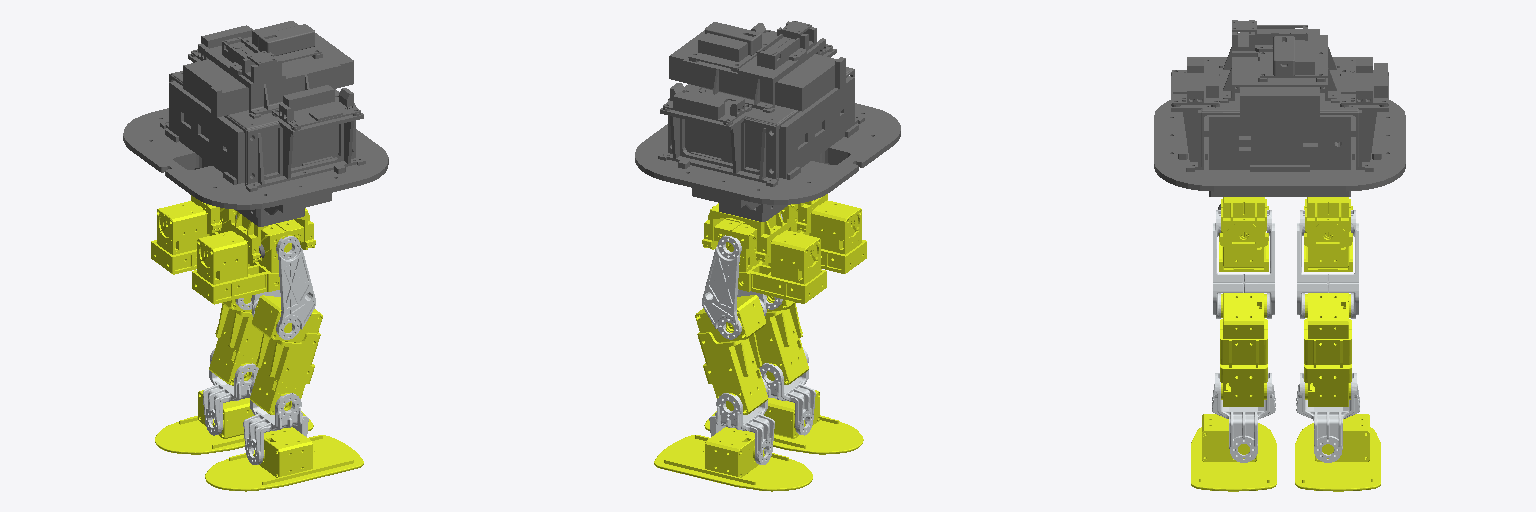
URDF robot description (exhx5_w_b_16):
<?xml version="1.0" encoding="utf-8"?>
<!-- This URDF was automatically created by SolidWorks to URDF Exporter! Originally created by [author] ([email redacted]) 
     Commit Version: 1.5.1-0-g916b5db  Build Version: 1.5.7152.31018
     For more information, please see http://wiki.ros.org/sw_urdf_exporter -->
<robot
  name="exhx5_w_b_16">
  <link
    name="body_link">
    <inertial>
      <origin
        xyz="0.00043545 0.00025536 0.10071"
        rpy="0 0 0" />
      <mass
        value="1.8238" />
      <inertia
        ixx="0.0025905"
        ixy="-5.6852E-06"
        ixz="-1.3106E-05"
        iyy="0.0024595"
        iyz="-1.261E-06"
        izz="0.0046407" />
    </inertial>
    <visual>
      <origin
        xyz="0 0 0"
        rpy="0 0 0" />
      <geometry>
        <mesh
          filename="../meshes/body_link.STL" />
      </geometry>
      <material
        name="">
        <color
          rgba="0.49804 0.49804 0.49804 1" />
      </material>
    </visual>
    <collision>
      <origin
        xyz="0 0 0"
        rpy="0 0 0" />
      <geometry>
        <mesh
          filename="../meshes/body_link.STL" />
      </geometry>
    </collision>
  </link>

  <link
    name="imu_link">
    <inertial>
      <origin
        xyz="-0.008387 1.336E-17 -0.0069463"
        rpy="0 0 0" />
      <mass
        value="0.0062931" />
      <inertia
        ixx="3.2242E-07"
        ixy="3.3527E-22"
        ixz="-6.9193E-08"
        iyy="9.2229E-07"
        iyz="-8.0392E-22"
        izz="1.1018E-06" />
    </inertial>
    <visual>
      <origin
        xyz="0 0 0"
        rpy="0 0 0" />
      <geometry>
        <mesh
          filename="../meshes/imu_link.STL" />
      </geometry>
      <material
        name="">
        <color
          rgba="0.79216 0.81961 0.93333 1" />
      </material>
    </visual>
    <collision>
      <origin
        xyz="0 0 0"
        rpy="0 0 0" />
      <geometry>
        <mesh
          filename="../meshes/imu_link.STL" />
      </geometry>
    </collision>
  </link>
  <joint
    name="imu"
    type="fixed">
    <origin
      xyz="0 0 0.0492"
      rpy="0 0 0" />
    <parent
      link="body_link" />
    <child
      link="imu_link" />
    <axis
      xyz="0 0 0" />
    <limit
      lower="-3.14"
      upper="3.14"
      effort="4"
      velocity="4" />
  </joint>
  <link
    name="l_hip_g_link">
    <inertial>
      <origin
        xyz="-0.0043797 -8.6604E-08 0.011813"
        rpy="0 0 0" />
      <mass
        value="0.061008" />
      <inertia
        ixx="1.167E-05"
        ixy="7.1767E-11"
        ixz="9.1442E-09"
        iyy="2.2342E-05"
        iyz="2.5177E-11"
        izz="2.4892E-05" />
    </inertial>
    <visual>
      <origin
        xyz="0 0 0"
        rpy="0 0 0" />
      <geometry>
        <mesh
          filename="../meshes/l_hip_g_link.STL" />
      </geometry>
      <material
        name="">
        <color
          rgba="0.9451 1 0.18431 1" />
      </material>
    </visual>
    <collision>
      <origin
        xyz="0 0 0"
        rpy="0 0 0" />
      <geometry>
        <mesh
          filename="../meshes/l_hip_g_link.STL" />
      </geometry>
    </collision>
  </link>
  <joint
    name="l_hip_g"
    type="fixed">
    <origin
      xyz="-.002 .040 0"
      rpy="0 0 0" />
    <parent
      link="body_link" />
    <child
      link="l_hip_g_link" />
    <axis
      xyz="0 0 0" />
  </joint>
  <link
    name="l_hip_roll_link">
    <inertial>
      <origin
        xyz="0.013831 0.00033457 0.025453"
        rpy="0 0 0" />
      <mass
        value="0.2969" />
      <inertia
        ixx="7.8136E-05"
        ixy="7.265E-07"
        ixz="-6.9809E-08"
        iyy="9.2183E-05"
        iyz="-5.6881E-11"
        izz="7.1034E-05" />
    </inertial>
    <visual>
      <origin
        xyz="0 0 0"
        rpy="0 0 0" />
      <geometry>
        <mesh
          filename="../meshes/l_hip_roll_link.STL" />
      </geometry>
      <material
        name="">
        <color
          rgba="0.9451 1 0.18431 1" />
      </material>
    </visual>
    <collision>
      <origin
        xyz="0 0 0"
        rpy="0 0 0" />
      <geometry>
        <mesh
          filename="../meshes/l_hip_roll_link.STL" />
      </geometry>
    </collision>
  </link>
  <joint
    name="l_hip_roll"
    type="revolute">
    <origin
      xyz="0 0 0"
      rpy="3.1416 1.5708 0" />
    <parent
      link="l_hip_g_link" />
    <child
      link="l_hip_roll_link" />
    <axis
      xyz="0 0 1" />
    <limit
      lower="-3.14"
      upper="3.14"
      effort="4"
      velocity="4" />
  </joint>
  <link
    name="l_hip_pitch_link">
    <inertial>
      <origin
        xyz="0.041225 -0.007321 -5.0713E-08"
        rpy="0 0 0" />
      <mass
        value="0.051592" />
      <inertia
        ixx="2.7959E-05"
        ixy="2.0752E-06"
        ixz="-8.0934E-11"
        iyy="4.8156E-05"
        iyz="3.6317E-11"
        izz="2.9604E-05" />
    </inertial>
    <visual>
      <origin
        xyz="0 0 0"
        rpy="0 0 0" />
      <geometry>
        <mesh
          filename="../meshes/l_hip_pitch_link.STL" />
      </geometry>
      <material
        name="">
        <color
          rgba="0.89804 0.91765 0.92941 1" />
      </material>
    </visual>
    <collision>
      <origin
        xyz="0 0 0"
        rpy="0 0 0" />
      <geometry>
        <mesh
          filename="../meshes/l_hip_pitch_link.STL" />
      </geometry>
    </collision>
  </link>
  <joint
    name="l_hip_pitch"
    type="revolute">
    <origin
      xyz="0 0 0"
      rpy="1.5708 0 0" />
    <parent
      link="l_hip_roll_link" />
    <child
      link="l_hip_pitch_link" />
    <axis
      xyz="0 0 1" />
    <limit
      lower="-3.14"
      upper="3.14"
      effort="4"
      velocity="4" />
  </joint>
  <link
    name="l_knee_link">
    <inertial>
      <origin
        xyz="0.033756 -0.0084189 -6.6115E-09"
        rpy="0 0 0" />
      <mass
        value="0.28878" />
      <inertia
        ixx="6.6724E-05"
        ixy="7.5004E-07"
        ixz="-8.4578E-07"
        iyy="6.5699E-05"
        iyz="4.1085E-07"
        izz="7.0381E-05" />
    </inertial>
    <visual>
      <origin
        xyz="0 0 0"
        rpy="0 0 0" />
      <geometry>
        <mesh
          filename="../meshes/l_knee_link.STL" />
      </geometry>
      <material
        name="">
        <color
          rgba="0.9451 1 0.18431 1" />
      </material>
    </visual>
    <collision>
      <origin
        xyz="0 0 0"
        rpy="0 0 0" />
      <geometry>
        <mesh
          filename="../meshes/l_knee_link.STL" />
      </geometry>
    </collision>
  </link>
  <joint
    name="l_knee"
    type="revolute">
    <origin
      xyz="0.075954 0 0"
      rpy="0 0 0" />
    <parent
      link="l_hip_pitch_link" />
    <child
      link="l_knee_link" />
    <axis
      xyz="0 0 1" />
    <limit
      lower="-3.14"
      upper="3.14"
      effort="4"
      velocity="4" />
  </joint>
  <link
    name="l_ank_pitch_link">
    <inertial>
      <origin
        xyz="0.022786 -7.3909E-09 -7.1981E-06"
        rpy="0 0 0" />
      <mass
        value="0.044772" />
      <inertia
        ixx="1.777E-05"
        ixy="8.555E-14"
        ixz="-3.3713E-09"
        iyy="1.7119E-05"
        iyz="1.7593E-11"
        izz="1.8661E-05" />
    </inertial>
    <visual>
      <origin
        xyz="0 0 0"
        rpy="0 0 0" />
      <geometry>
        <mesh
          filename="../meshes/l_ank_pitch_link.STL" />
      </geometry>
      <material
        name="">
        <color
          rgba="0.89804 0.91765 0.92941 1" />
      </material>
    </visual>
    <collision>
      <origin
        xyz="0 0 0"
        rpy="0 0 0" />
      <geometry>
        <mesh
          filename="../meshes/l_ank_pitch_link.STL" />
      </geometry>
    </collision>
  </link>
  <joint
    name="l_ank_pitch"
    type="revolute">
    <origin
      xyz="0.074602 0 0"
      rpy="3.1416 0 0" />
    <parent
      link="l_knee_link" />
    <child
      link="l_ank_pitch_link" />
    <axis
      xyz="0 0 1" />
    <limit
      lower="-3.14"
      upper="3.14"
      effort="4"
      velocity="4" />
  </joint>
  <link
    name="l_ank_roll_link">
    <inertial>
      <origin
        xyz="0.0047069 0.010728 0.0015299"
        rpy="0 0 0" />
      <mass
        value="0.16774" />
      <inertia
        ixx="0.00012039"
        ixy="-3.7428E-09"
        ixz="4.4069E-08"
        iyy="8.7735E-05"
        iyz="7.0469E-07"
        izz="4.7866E-05" />
    </inertial>
    <visual>
      <origin
        xyz="0 0 0"
        rpy="0 0 0" />
      <geometry>
        <mesh
          filename="../meshes/l_ank_roll_link.STL" />
      </geometry>
      <material
        name="">
        <color
          rgba="0.9451 1 0.18431 1" />
      </material>
    </visual>
    <collision>
      <origin
        xyz="0 0 0"
        rpy="0 0 0" />
      <geometry>
        <mesh
          filename="../meshes/l_ank_roll_link.STL" />
      </geometry>
    </collision>
  </link>
  <joint
    name="l_ank_roll"
    type="revolute">
    <origin
      xyz="0.0465 0 0"
      rpy="-1.5708 0 0" />
    <parent
      link="l_ank_pitch_link" />
    <child
      link="l_ank_roll_link" />
    <axis
      xyz="0 0 1" />
    <limit
      lower="-3.14"
      upper="3.14"
      effort="4"
      velocity="4" />
  </joint>
  <link
    name="r_hip_g_link">
    <inertial>
      <origin
        xyz="-0.0043797 -8.6604E-08 0.011813"
        rpy="0 0 0" />
      <mass
        value="0.061008" />
      <inertia
        ixx="1.167E-05"
        ixy="7.1767E-11"
        ixz="9.1442E-09"
        iyy="2.2342E-05"
        iyz="2.5177E-11"
        izz="2.4892E-05" />
    </inertial>
    <visual>
      <origin
        xyz="0 0 0"
        rpy="0 0 0" />
      <geometry>
        <mesh
          filename="../meshes/r_hip_g_link.STL" />
      </geometry>
      <material
        name="">
        <color
          rgba="0.9451 1 0.18431 1" />
      </material>
    </visual>
    <collision>
      <origin
        xyz="0 0 0"
        rpy="0 0 0" />
      <geometry>
        <mesh
          filename="../meshes/r_hip_g_link.STL" />
      </geometry>
    </collision>
  </link>
  <joint
    name="r_hip_g"
    type="fixed">
    <origin
      xyz="-.002 -.030 0"
      rpy="0 0 0" />
    <parent
      link="body_link" />
    <child
      link="r_hip_g_link" />
    <axis
      xyz="0 0 0" />
  </joint>
  <link
    name="r_hip_roll_link">
    <inertial>
      <origin
        xyz="0.013831 0.00033457 0.025453"
        rpy="0 0 0" />
      <mass
        value="0.2969" />
      <inertia
        ixx="7.8136E-05"
        ixy="7.265E-07"
        ixz="-6.9809E-08"
        iyy="9.2183E-05"
        iyz="-5.6881E-11"
        izz="7.1034E-05" />
    </inertial>
    <visual>
      <origin
        xyz="0 0 0"
        rpy="0 0 0" />
      <geometry>
        <mesh
          filename="../meshes/r_hip_roll_link.STL" />
      </geometry>
      <material
        name="">
        <color
          rgba="0.9451 1 0.18431 1" />
      </material>
    </visual>
    <collision>
      <origin
        xyz="0 0 0"
        rpy="0 0 0" />
      <geometry>
        <mesh
          filename="../meshes/r_hip_roll_link.STL" />
      </geometry>
    </collision>
  </link>
  <joint
    name="r_hip_roll"
    type="revolute">
    <origin
      xyz="0 0 0"
      rpy="3.1416 1.5708 0" />
    <parent
      link="r_hip_g_link" />
    <child
      link="r_hip_roll_link" />
    <axis
      xyz="0 0 1" />
    <limit
      lower="-3.14"
      upper="3.14"
      effort="4"
      velocity="4" />
  </joint>
  <link
    name="r_hip_pitch_link">
    <inertial>
      <origin
        xyz="0.041225 0.007321 5.0713E-08"
        rpy="0 0 0" />
      <mass
        value="0.051592" />
      <inertia
        ixx="2.7959E-05"
        ixy="-2.0752E-06"
        ixz="8.0934E-11"
        iyy="4.8156E-05"
        iyz="3.6317E-11"
        izz="2.9604E-05" />
    </inertial>
    <visual>
      <origin
        xyz="0 0 0"
        rpy="0 0 0" />
      <geometry>
        <mesh
          filename="../meshes/r_hip_pitch_link.STL" />
      </geometry>
      <material
        name="">
        <color
          rgba="0.89804 0.91765 0.92941 1" />
      </material>
    </visual>
    <collision>
      <origin
        xyz="0 0 0"
        rpy="0 0 0" />
      <geometry>
        <mesh
          filename="../meshes/r_hip_pitch_link.STL" />
      </geometry>
    </collision>
  </link>
  <joint
    name="r_hip_pitch"
    type="revolute">
    <origin
      xyz="0 0 0"
      rpy="-1.5708 0 0" />
    <parent
      link="r_hip_roll_link" />
    <child
      link="r_hip_pitch_link" />
    <axis
      xyz="0 0 1" />
    <limit
      lower="-3.14"
      upper="3.14"
      effort="4"
      velocity="4" />
  </joint>
  <link
    name="r_knee_link">
    <inertial>
      <origin
        xyz="0.033757 0.0084176 6.6115E-09"
        rpy="0 0 0" />
      <mass
        value="0.28878" />
      <inertia
        ixx="6.6724E-05"
        ixy="-7.5008E-07"
        ixz="8.458E-07"
        iyy="6.5699E-05"
        iyz="4.1081E-07"
        izz="7.0381E-05" />
    </inertial>
    <visual>
      <origin
        xyz="0 0 0"
        rpy="0 0 0" />
      <geometry>
        <mesh
          filename="../meshes/r_knee_link.STL" />
      </geometry>
      <material
        name="">
        <color
          rgba="0.9451 1 0.18431 1" />
      </material>
    </visual>
    <collision>
      <origin
        xyz="0 0 0"
        rpy="0 0 0" />
      <geometry>
        <mesh
          filename="../meshes/r_knee_link.STL" />
      </geometry>
    </collision>
  </link>
  <joint
    name="r_knee"
    type="revolute">
    <origin
      xyz="0.075954 0 0"
      rpy="0 0 0" />
    <parent
      link="r_hip_pitch_link" />
    <child
      link="r_knee_link" />
    <axis
      xyz="0 0 1" />
    <limit
      lower="-3.14"
      upper="3.14"
      effort="4"
      velocity="4" />
  </joint>
  <link
    name="r_ank_pitch_link">
    <inertial>
      <origin
        xyz="0.025786 -7.3887E-09 -7.1981E-06"
        rpy="0 0 0" />
      <mass
        value="0.044772" />
      <inertia
        ixx="1.777E-05"
        ixy="8.5434E-14"
        ixz="-3.3713E-09"
        iyy="1.7119E-05"
        iyz="1.7592E-11"
        izz="1.8661E-05" />
    </inertial>
    <visual>
      <origin
        xyz="0 0 0"
        rpy="0 0 0" />
      <geometry>
        <mesh
          filename="../meshes/r_ank_pitch_link.STL" />
      </geometry>
      <material
        name="">
        <color
          rgba="0.89804 0.91765 0.92941 1" />
      </material>
    </visual>
    <collision>
      <origin
        xyz="0 0 0"
        rpy="0 0 0" />
      <geometry>
        <mesh
          filename="../meshes/r_ank_pitch_link.STL" />
      </geometry>
    </collision>
  </link>
  <joint
    name="r_ank_pitch"
    type="revolute">
    <origin
      xyz="0.071602 0 0"
      rpy="3.1416 0 0" />
    <parent
      link="r_knee_link" />
    <child
      link="r_ank_pitch_link" />
    <axis
      xyz="0 0 1" />
    <limit
      lower="-3.14"
      upper="3.14"
      effort="4"
      velocity="4" />
  </joint>
  <link
    name="r_ank_roll_link">
    <inertial>
      <origin
        xyz="0.0077069 -0.010728 0.0015299"
        rpy="0 0 0" />
      <mass
        value="0.16774" />
      <inertia
        ixx="0.00012039"
        ixy="3.743E-09"
        ixz="4.407E-08"
        iyy="8.7735E-05"
        iyz="-7.0467E-07"
        izz="4.7866E-05" />
    </inertial>
    <visual>
      <origin
        xyz="0 0 0"
        rpy="0 0 0" />
      <geometry>
        <mesh
          filename="../meshes/r_ank_roll_link.STL" />
      </geometry>
      <material
        name="">
        <color
          rgba="0.9451 1 0.18431 1" />
      </material>
    </visual>
    <collision>
      <origin
        xyz="0 0 0"
        rpy="0 0 0" />
      <geometry>
        <mesh
          filename="../meshes/r_ank_roll_link.STL" />
      </geometry>
    </collision>
  </link>
  <joint
    name="r_ank_roll"
    type="revolute">
    <origin
      xyz="0.0465 0 0"
      rpy="1.5708 0 0" />
    <parent
      link="r_ank_pitch_link" />
    <child
      link="r_ank_roll_link" />
    <axis
      xyz="0 0 1" />
    <limit
      lower="-3.14"
      upper="3.14"
      effort="4"
      velocity="4" />
  </joint>
  <transmission name="r_hip_roll_tran">
    <type>transmission_interface/SimpleTransmission</type>
    <joint name="r_hip_roll">
      <hardwareInterface>hardware_interface/EffortJointInterface</hardwareInterface>
    </joint>
    <actuator name="r_hip_roll_motor">
      <hardwareInterface>hardware_interface/EffortJointInterface</hardwareInterface>
      <mechanicalReduction>1</mechanicalReduction>
    </actuator>
  </transmission>
  <transmission name="r_hip_pitch_tran">
    <type>transmission_interface/SimpleTransmission</type>
    <joint name="r_hip_pitch">
      <hardwareInterface>hardware_interface/EffortJointInterface</hardwareInterface>
    </joint>
    <actuator name="r_hip_pitch_motor">
      <hardwareInterface>hardware_interface/EffortJointInterface</hardwareInterface>
      <mechanicalReduction>1</mechanicalReduction>
    </actuator>
  </transmission>
  <transmission name="r_knee_tran">
    <type>transmission_interface/SimpleTransmission</type>
    <joint name="r_knee">
      <hardwareInterface>hardware_interface/EffortJointInterface</hardwareInterface>
    </joint>
    <actuator name="r_knee_motor">
      <hardwareInterface>hardware_interface/EffortJointInterface</hardwareInterface>
      <mechanicalReduction>1</mechanicalReduction>
    </actuator>
  </transmission>
  <transmission name="r_ank_pitch_tran">
    <type>transmission_interface/SimpleTransmission</type>
    <joint name="r_ank_pitch">
      <hardwareInterface>hardware_interface/EffortJointInterface</hardwareInterface>
    </joint>
    <actuator name="r_ank_pitch_motor">
      <hardwareInterface>hardware_interface/EffortJointInterface</hardwareInterface>
      <mechanicalReduction>1</mechanicalReduction>
    </actuator>
  </transmission>
  <transmission name="r_ank_roll_tran">
    <type>transmission_interface/SimpleTransmission</type>
    <joint name="r_ank_roll">
      <hardwareInterface>hardware_interface/EffortJointInterface</hardwareInterface>
    </joint>
    <actuator name="r_ank_roll_motor">
      <hardwareInterface>hardware_interface/EffortJointInterface</hardwareInterface>
      <mechanicalReduction>1</mechanicalReduction>
    </actuator>
  </transmission>
  <transmission name="l_hip_roll_tran">
    <type>transmission_interface/SimpleTransmission</type>
    <joint name="l_hip_roll">
      <hardwareInterface>hardware_interface/EffortJointInterface</hardwareInterface>
    </joint>
    <actuator name="l_hip_roll_motor">
      <hardwareInterface>hardware_interface/EffortJointInterface</hardwareInterface>
      <mechanicalReduction>1</mechanicalReduction>
    </actuator>
  </transmission>
  <transmission name="l_hip_pitch_tran">
    <type>transmission_interface/SimpleTransmission</type>
    <joint name="l_hip_pitch">
      <hardwareInterface>hardware_interface/EffortJointInterface</hardwareInterface>
    </joint>
    <actuator name="l_hip_pitch_motor">
      <hardwareInterface>hardware_interface/EffortJointInterface</hardwareInterface>
      <mechanicalReduction>1</mechanicalReduction>
    </actuator>
  </transmission>
  <transmission name="l_knee_tran">
    <type>transmission_interface/SimpleTransmission</type>
    <joint name="l_knee">
      <hardwareInterface>hardware_interface/EffortJointInterface</hardwareInterface>
    </joint>
    <actuator name="l_knee_motor">
      <hardwareInterface>hardware_interface/EffortJointInterface</hardwareInterface>
      <mechanicalReduction>1</mechanicalReduction>
    </actuator>
  </transmission>
  <transmission name="l_ank_pitch_tran">
    <type>transmission_interface/SimpleTransmission</type>
    <joint name="l_ank_pitch">
      <hardwareInterface>hardware_interface/EffortJointInterface</hardwareInterface>
    </joint>
    <actuator name="l_ank_pitch_motor">
      <hardwareInterface>hardware_interface/EffortJointInterface</hardwareInterface>
      <mechanicalReduction>1</mechanicalReduction>
    </actuator>
  </transmission>
  <transmission name="l_ank_roll_tran">
    <type>transmission_interface/SimpleTransmission</type>
    <joint name="l_ank_roll">
      <hardwareInterface>hardware_interface/EffortJointInterface</hardwareInterface>
    </joint>
    <actuator name="l_ank_roll_motor">
      <hardwareInterface>hardware_interface/EffortJointInterface</hardwareInterface>
      <mechanicalReduction>1</mechanicalReduction>
    </actuator>
  </transmission>
</robot>

--- What the picture shows (computed from the rendered views, not written in the file) ---
The picture shows the robot from 3 angles, left to right: view 1: azimuth 30°, elevation 25°; view 2: azimuth 150°, elevation 25°; view 3: azimuth 270°, elevation 25°; orthographic projection.
Model exhx5_w_b_16 with 14 links and 13 joints (10 revolute, 3 fixed), rooted at body_link, posed all joints at 0.
Links seen in each view (by area): view 1: body_link, r_ank_roll_link, r_hip_roll_link, r_knee_link, l_hip_roll_link, l_ank_roll_link, r_hip_pitch_link, l_knee_link, r_ank_pitch_link, l_ank_pitch_link, r_hip_g_link; view 2: body_link, l_ank_roll_link, l_hip_roll_link, l_knee_link, r_hip_roll_link, r_ank_roll_link, l_hip_pitch_link, r_knee_link, l_ank_pitch_link, r_ank_pitch_link, l_hip_g_link; view 3: body_link, l_knee_link, r_knee_link, r_ank_roll_link, l_ank_roll_link, l_ank_pitch_link, r_ank_pitch_link, l_hip_pitch_link, r_hip_pitch_link, r_hip_g_link, l_hip_g_link, r_hip_roll_link (+1 smaller).
Boxes of the visible links, x1,y1,x2,y2 form: body_link: (123, 21, 388, 257); r_ank_roll_link: (205, 427, 363, 491); r_hip_roll_link: (192, 219, 303, 304); r_knee_link: (250, 295, 322, 414); l_hip_roll_link: (151, 201, 236, 274); l_ank_roll_link: (155, 390, 313, 454); r_hip_pitch_link: (252, 236, 315, 339); l_knee_link: (209, 296, 262, 385); r_ank_pitch_link: (243, 378, 308, 464); l_ank_pitch_link: (203, 349, 258, 435); r_hip_g_link: (231, 208, 315, 263); body_link: (635, 21, 900, 221); l_ank_roll_link: (654, 427, 812, 491); l_hip_roll_link: (714, 218, 826, 303); l_knee_link: (695, 295, 767, 414); r_hip_roll_link: (781, 200, 866, 273); r_ank_roll_link: (704, 390, 863, 454); l_hip_pitch_link: (702, 235, 766, 339); r_knee_link: (755, 295, 808, 384); l_ank_pitch_link: (709, 378, 774, 464); r_ank_pitch_link: (759, 348, 815, 435); l_hip_g_link: (702, 203, 786, 262); body_link: (1154, 20, 1405, 209); l_knee_link: (1304, 293, 1351, 406); r_knee_link: (1220, 293, 1267, 406); r_ank_roll_link: (1191, 414, 1276, 491); l_ank_roll_link: (1295, 414, 1380, 491); l_ank_pitch_link: (1296, 373, 1359, 462); r_ank_pitch_link: (1212, 373, 1275, 462); l_hip_pitch_link: (1297, 210, 1358, 318); r_hip_pitch_link: (1213, 210, 1274, 318); r_hip_g_link: (1219, 197, 1268, 246); l_hip_g_link: (1304, 197, 1352, 246); r_hip_roll_link: (1219, 199, 1268, 271).
Size in the robot's own frame: 0.185 by 0.21 by 0.3893 metres.
Meshes: 14 distinct files referenced, 14 mesh visuals loaded (14 binary STL).